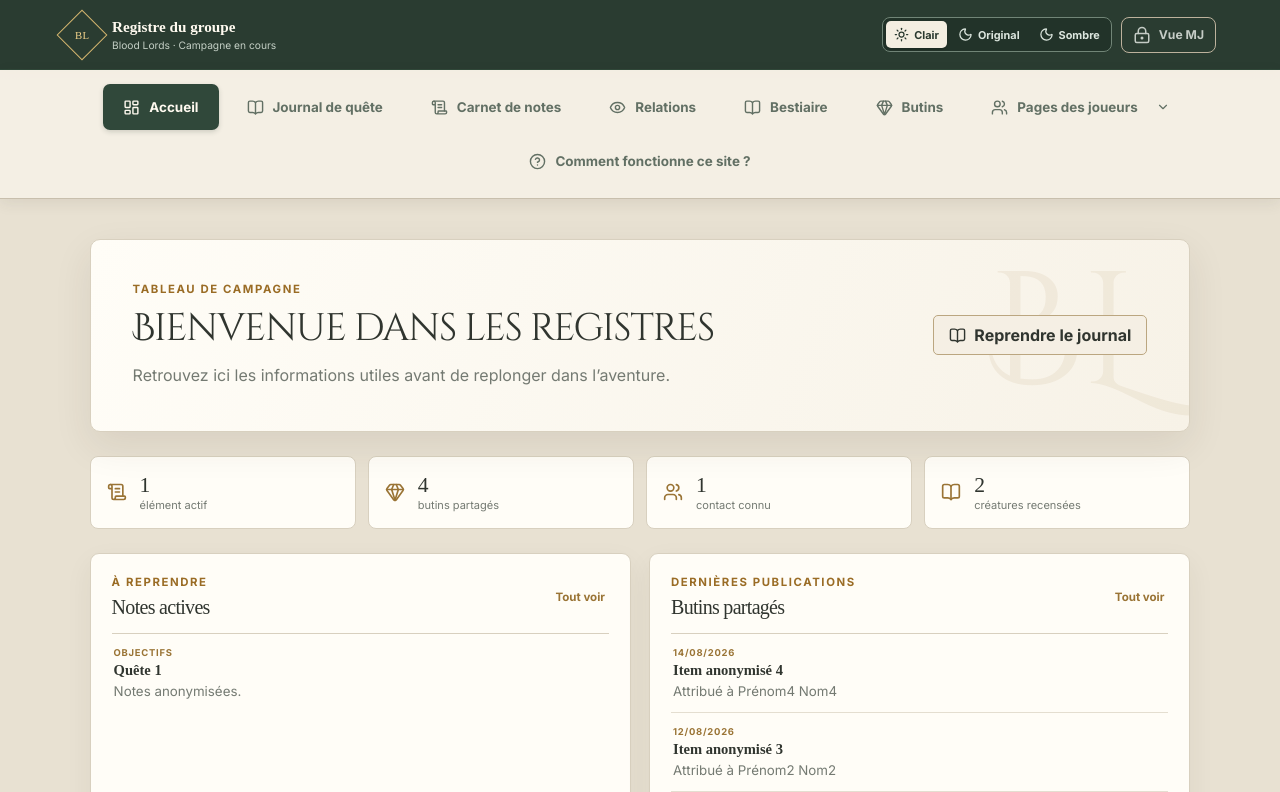
ne montre pas Ma page au MJ dans la vue joueurs
Expected: the link "Vue MJ" is shown, [1121,16,1216,52]
Click the button "Pages des joueurs".
click(1060, 107)  # box [971,84,1149,130]
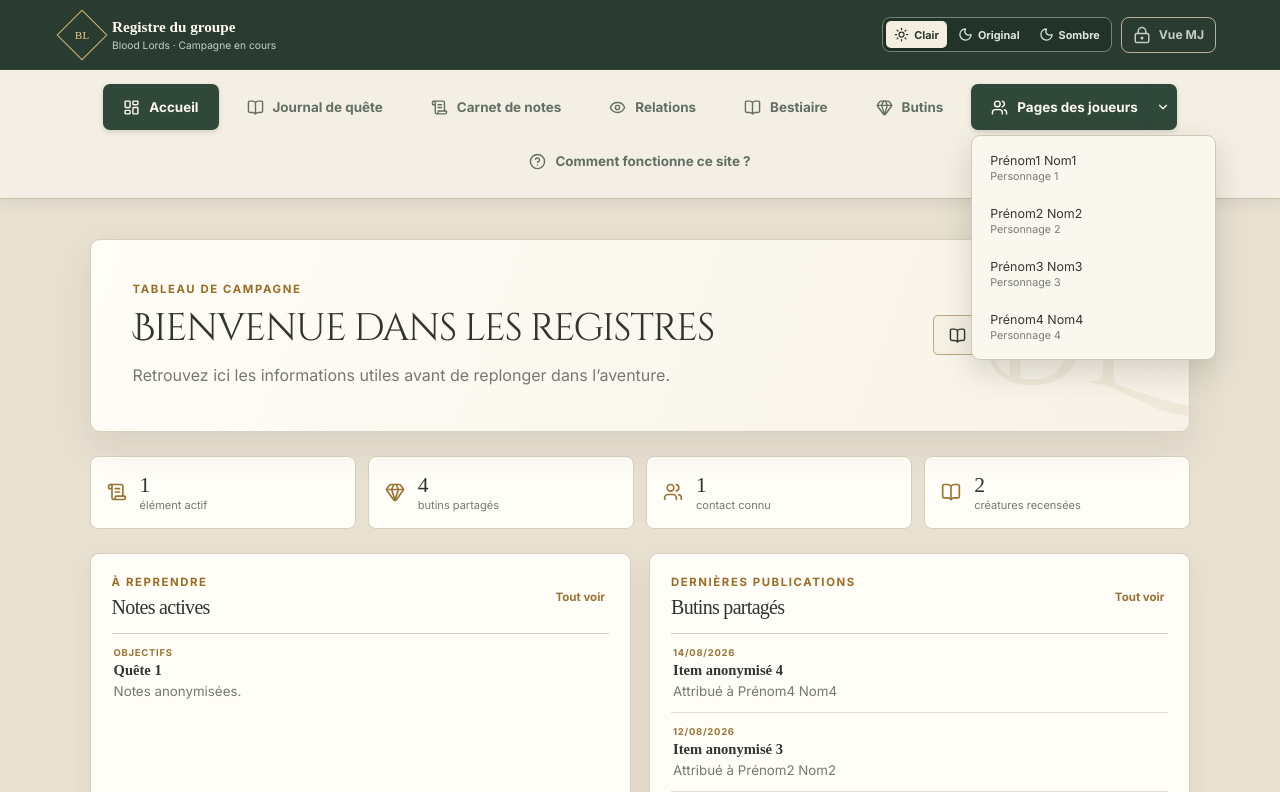
Expected: the menu item "Prénom1 Nom1 Personnage 1" is shown
Click the menu item "Prénom1 Nom1 Personnage 1".
click(1094, 168)  # box [979,143,1208,193]
(page scrolled)
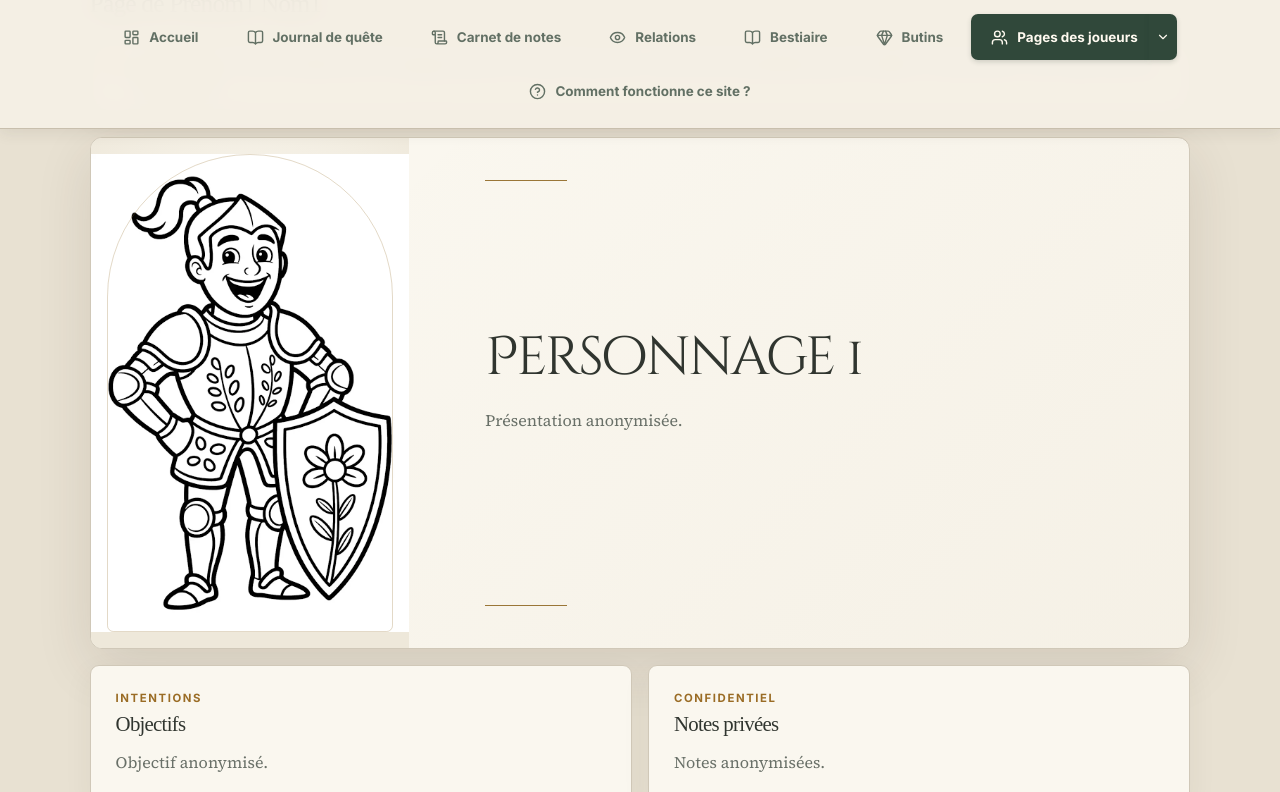
Expected: the element that starts with "Prénom1 Nom1" shows "En tant que MJ, vous voyez aussi ses notes privées", [133,59,1158,96]
